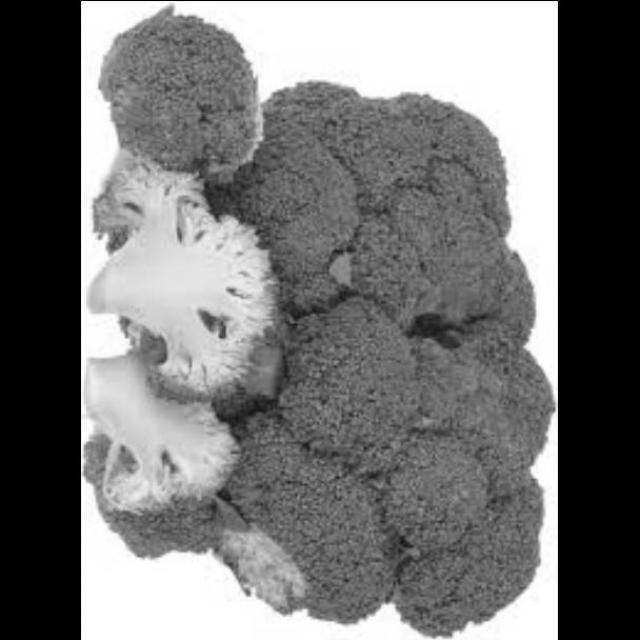broccoli: (83, 1, 557, 631), (83, 163, 300, 399), (81, 342, 242, 527)
